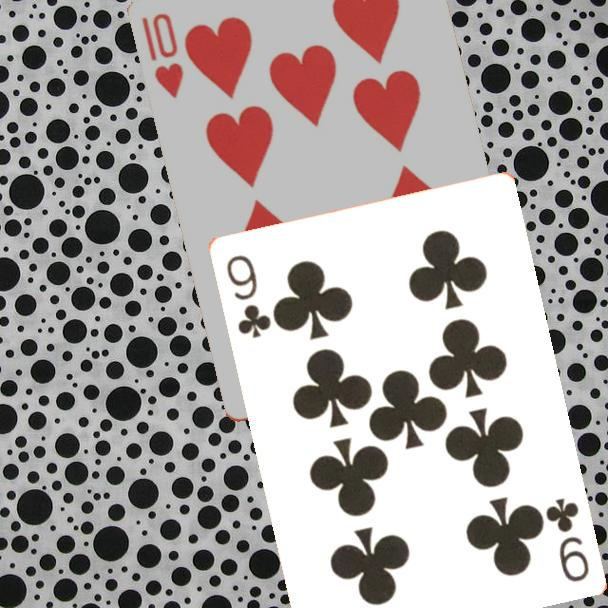c09: (541, 494, 592, 585), (222, 251, 273, 341)
h10: (138, 10, 187, 101)
